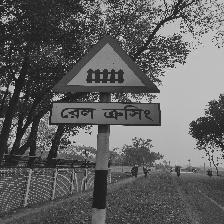Rail-crossing: (49, 35, 162, 127)
